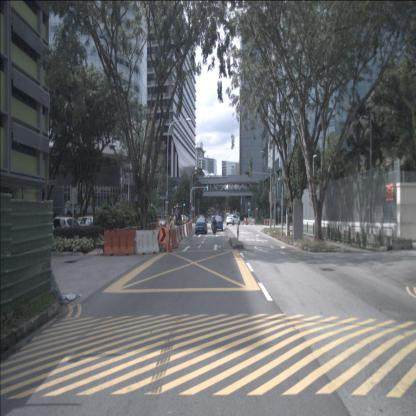movable_object-barrier: (104, 230, 136, 256), (134, 230, 160, 254), (169, 228, 178, 249)
movable_object-trafficcone: (169, 236, 173, 253)
vehicle-bicycle: (351, 230, 361, 248)
vehicle-car: (53, 216, 81, 237), (76, 216, 100, 233), (195, 217, 207, 235), (173, 214, 189, 226), (226, 214, 240, 225), (213, 216, 223, 231)
vehicle-motorcycle: (211, 214, 217, 236)
